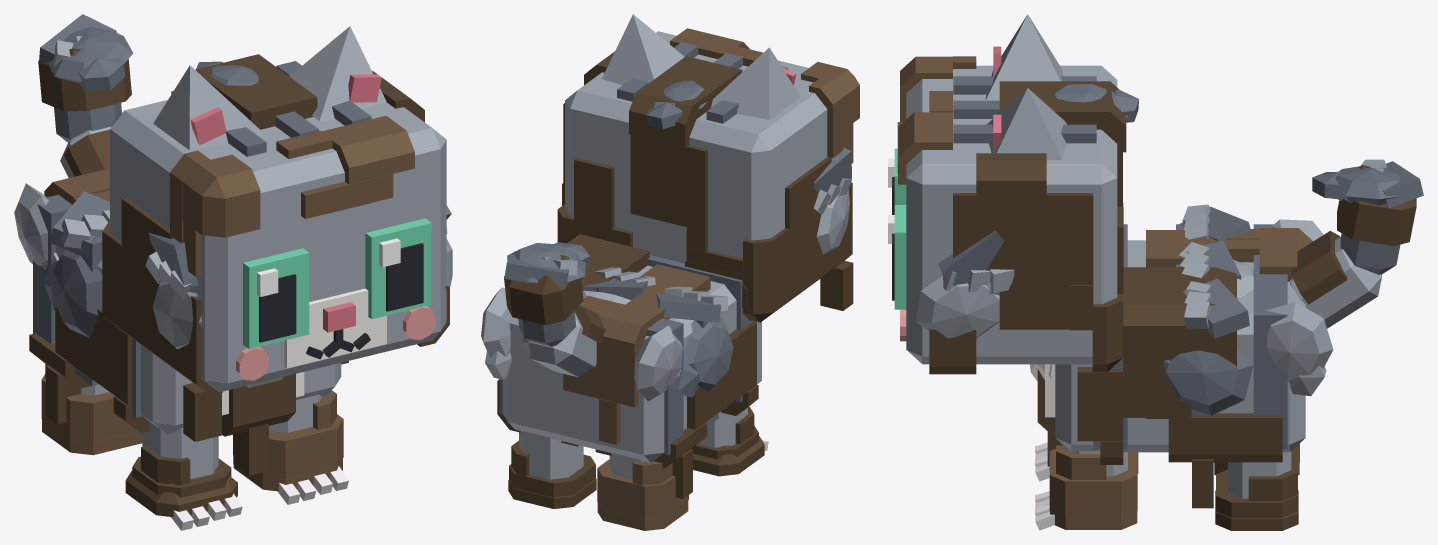
The model's file is CleanACat_Cat_Smudge_Dirty.fbx.
The picture shows the model from 3 angles, left to right: view 1: azimuth 30°, elevation 25°; view 2: azimuth 150°, elevation 25°; view 3: azimuth 270°, elevation 25°; orthographic projection. The views are drawn at different scales.
Visible parts, largest first — view 1: CleanACat_Cat_Smudge_Dirty_Head, CleanACat_Cat_Smudge_Dirty_Mud01, CleanACat_Cat_Smudge_Dirty_Body, CleanACat_Cat_Smudge_Dirty_Mud03, CleanACat_Cat_Smudge_Dirty_Mud06, CleanACat_Cat_Smudge_Dirty_Eye2, CleanACat_Cat_Smudge_Dirty_Eye1, CleanACat_Cat_Smudge_Dirty_Mud15, CleanACat_Cat_Smudge_Dirty_Mud16, CleanACat_Cat_Smudge_Dirty_Mud10, CleanACat_Cat_Smudge_Dirty_EarL, CleanACat_Cat_Smudge_Dirty_Mud07 (+19 smaller); view 2: CleanACat_Cat_Smudge_Dirty_Head, CleanACat_Cat_Smudge_Dirty_Body, CleanACat_Cat_Smudge_Dirty_Mud04, CleanACat_Cat_Smudge_Dirty_Mud01, CleanACat_Cat_Smudge_Dirty_Mud09, CleanACat_Cat_Smudge_Dirty_Mud18, CleanACat_Cat_Smudge_Dirty_Mud10, CleanACat_Cat_Smudge_Dirty_Mud05, CleanACat_Cat_Smudge_Dirty_EarR, CleanACat_Cat_Smudge_Dirty_Tail, CleanACat_Cat_Smudge_Dirty_Mud06, CleanACat_Cat_Smudge_Dirty_Mud17 (+22 smaller); view 3: CleanACat_Cat_Smudge_Dirty_Head, CleanACat_Cat_Smudge_Dirty_Mud02, CleanACat_Cat_Smudge_Dirty_Body, CleanACat_Cat_Smudge_Dirty_Mud08, CleanACat_Cat_Smudge_Dirty_Mud11, CleanACat_Cat_Smudge_Dirty_Mud15, CleanACat_Cat_Smudge_Dirty_Fluff09, CleanACat_Cat_Smudge_Dirty_Mud17, CleanACat_Cat_Smudge_Dirty_Fluff05, CleanACat_Cat_Smudge_Dirty_Tail, CleanACat_Cat_Smudge_Dirty_Mud13, CleanACat_Cat_Smudge_Dirty_Mud04 (+21 smaller).
Part boxes in pixels (left/top/right/bottom): CleanACat_Cat_Smudge_Dirty_Head: left=110, top=61, right=446, bottom=392; CleanACat_Cat_Smudge_Dirty_Mud01: left=102, top=197, right=222, bottom=441; CleanACat_Cat_Smudge_Dirty_Body: left=33, top=194, right=341, bottom=434; CleanACat_Cat_Smudge_Dirty_Mud03: left=276, top=116, right=414, bottom=218; CleanACat_Cat_Smudge_Dirty_Mud06: left=170, top=150, right=260, bottom=276; CleanACat_Cat_Smudge_Dirty_Eye2: left=243, top=248, right=309, bottom=348; CleanACat_Cat_Smudge_Dirty_Eye1: left=365, top=218, right=431, bottom=319; CleanACat_Cat_Smudge_Dirty_Mud15: left=233, top=390, right=343, bottom=491; CleanACat_Cat_Smudge_Dirty_Mud16: left=125, top=446, right=237, bottom=517; CleanACat_Cat_Smudge_Dirty_Mud10: left=55, top=307, right=149, bottom=432; CleanACat_Cat_Smudge_Dirty_EarL: left=289, top=26, right=386, bottom=120; CleanACat_Cat_Smudge_Dirty_Mud07: left=222, top=374, right=295, bottom=475; CleanACat_Cat_Smudge_Dirty_Head: left=565, top=31, right=851, bottom=263; CleanACat_Cat_Smudge_Dirty_Body: left=499, top=255, right=761, bottom=462; CleanACat_Cat_Smudge_Dirty_Mud04: left=629, top=56, right=742, bottom=251; CleanACat_Cat_Smudge_Dirty_Mud01: left=686, top=157, right=853, bottom=322; CleanACat_Cat_Smudge_Dirty_Mud09: left=563, top=291, right=659, bottom=444; CleanACat_Cat_Smudge_Dirty_Mud18: left=597, top=459, right=688, bottom=530; CleanACat_Cat_Smudge_Dirty_Mud10: left=685, top=261, right=758, bottom=429; CleanACat_Cat_Smudge_Dirty_Mud05: left=557, top=158, right=632, bottom=246; CleanACat_Cat_Smudge_Dirty_EarR: left=711, top=47, right=800, bottom=119; CleanACat_Cat_Smudge_Dirty_Tail: left=518, top=311, right=596, bottom=377; CleanACat_Cat_Smudge_Dirty_Mud06: left=801, top=62, right=859, bottom=163; CleanACat_Cat_Smudge_Dirty_Mud17: left=508, top=441, right=596, bottom=508; CleanACat_Cat_Smudge_Dirty_Head: left=900, top=65, right=1117, bottom=364; CleanACat_Cat_Smudge_Dirty_Mud02: left=929, top=153, right=1093, bottom=374; CleanACat_Cat_Smudge_Dirty_Body: left=1045, top=224, right=1305, bottom=452; CleanACat_Cat_Smudge_Dirty_Mud08: left=1123, top=267, right=1236, bottom=418; CleanACat_Cat_Smudge_Dirty_Mud11: left=1168, top=413, right=1282, bottom=508; CleanACat_Cat_Smudge_Dirty_Mud15: left=1049, top=445, right=1137, bottom=529; CleanACat_Cat_Smudge_Dirty_Fluff09: left=1265, top=302, right=1333, bottom=396; CleanACat_Cat_Smudge_Dirty_Mud17: left=1215, top=467, right=1298, bottom=530; CleanACat_Cat_Smudge_Dirty_Fluff05: left=1163, top=346, right=1252, bottom=415; CleanACat_Cat_Smudge_Dirty_Tail: left=1290, top=233, right=1400, bottom=328; CleanACat_Cat_Smudge_Dirty_Mud13: left=1077, top=367, right=1123, bottom=464; CleanACat_Cat_Smudge_Dirty_Mud04: left=999, top=81, right=1126, bottom=206.
Bounding box in the file's own units: 1.13 × 1.86 × 2.03.
Materials: 1 (1 with a texture image).
